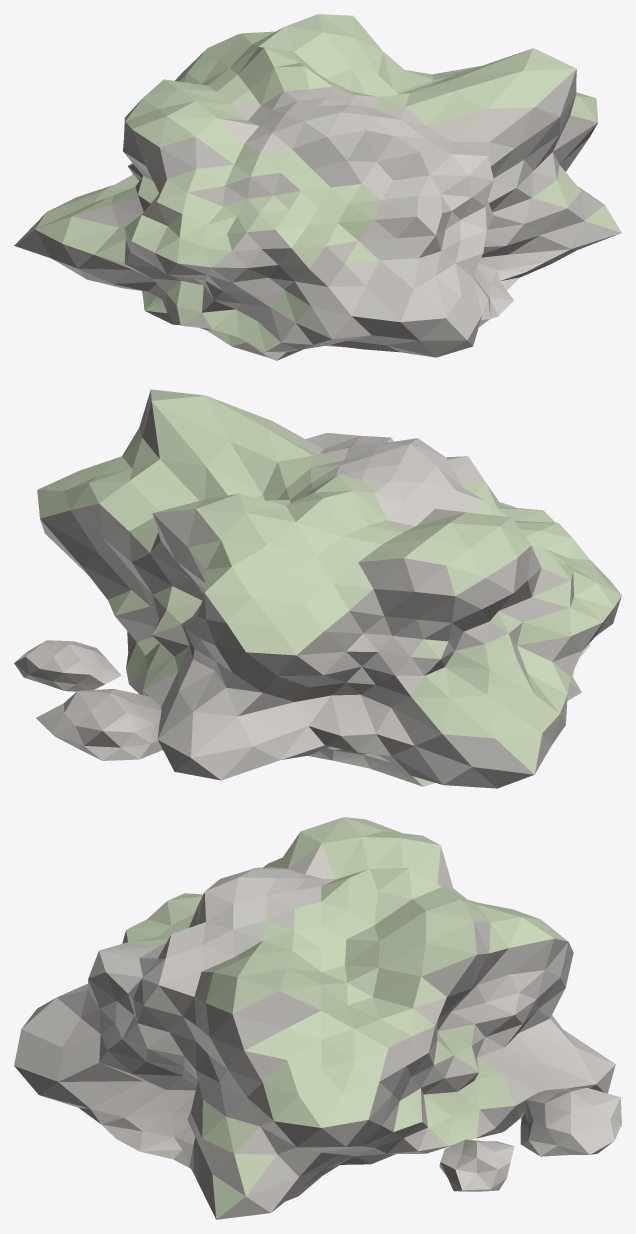
The model's file is boulder_b.glb.
3 renders of one model, top to bottom at view 1: azimuth 30°, elevation 25°; view 2: azimuth 150°, elevation 25°; view 3: azimuth 270°, elevation 25°, orthographic. The views are drawn at different scales.
Visible parts, largest first — view 1: boulder; view 2: boulder; view 3: boulder.
Part boxes in pixels (x1=…): boulder: x1=14, y1=14, x2=621, y2=360; boulder: x1=14, y1=389, x2=621, y2=788; boulder: x1=14, y1=817, x2=621, y2=1219.
Size of the model in its own units: 1.38 by 0.5745 by 1.29.
